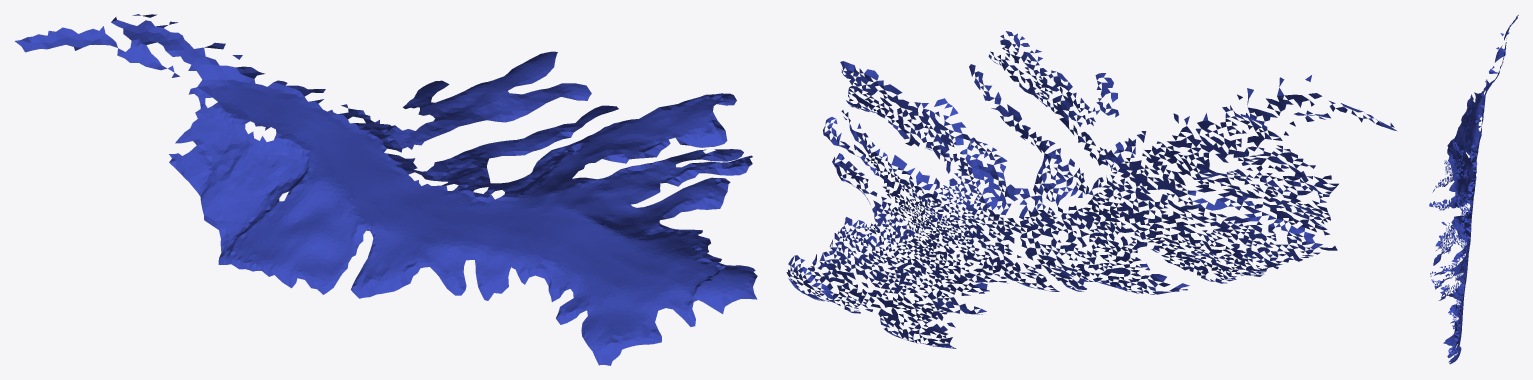
Rendered from glacier_wgs.gltf.
3 views of the same model, side by side, from view 1: azimuth 30°, elevation 25°; view 2: azimuth 150°, elevation 25°; view 3: azimuth 270°, elevation 25° (orthographic). The views are drawn at different scales.
Visible parts, largest first — view 1: Renderer Node; view 2: Renderer Node; view 3: Renderer Node.
Part boxes in pixels (x1,y1,x2,y2): Renderer Node: [15, 14, 757, 365]; Renderer Node: [786, 31, 1397, 348]; Renderer Node: [1429, 15, 1518, 364].
Size of the model in its own units: 0.0997 by 0.0581 by 0.0227.
Materials: 1 (1 with a texture image).
